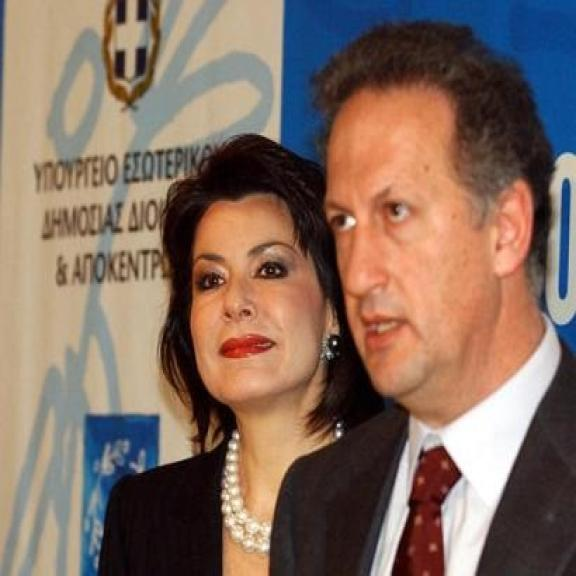face: (322, 93, 536, 403), (186, 190, 342, 404)
